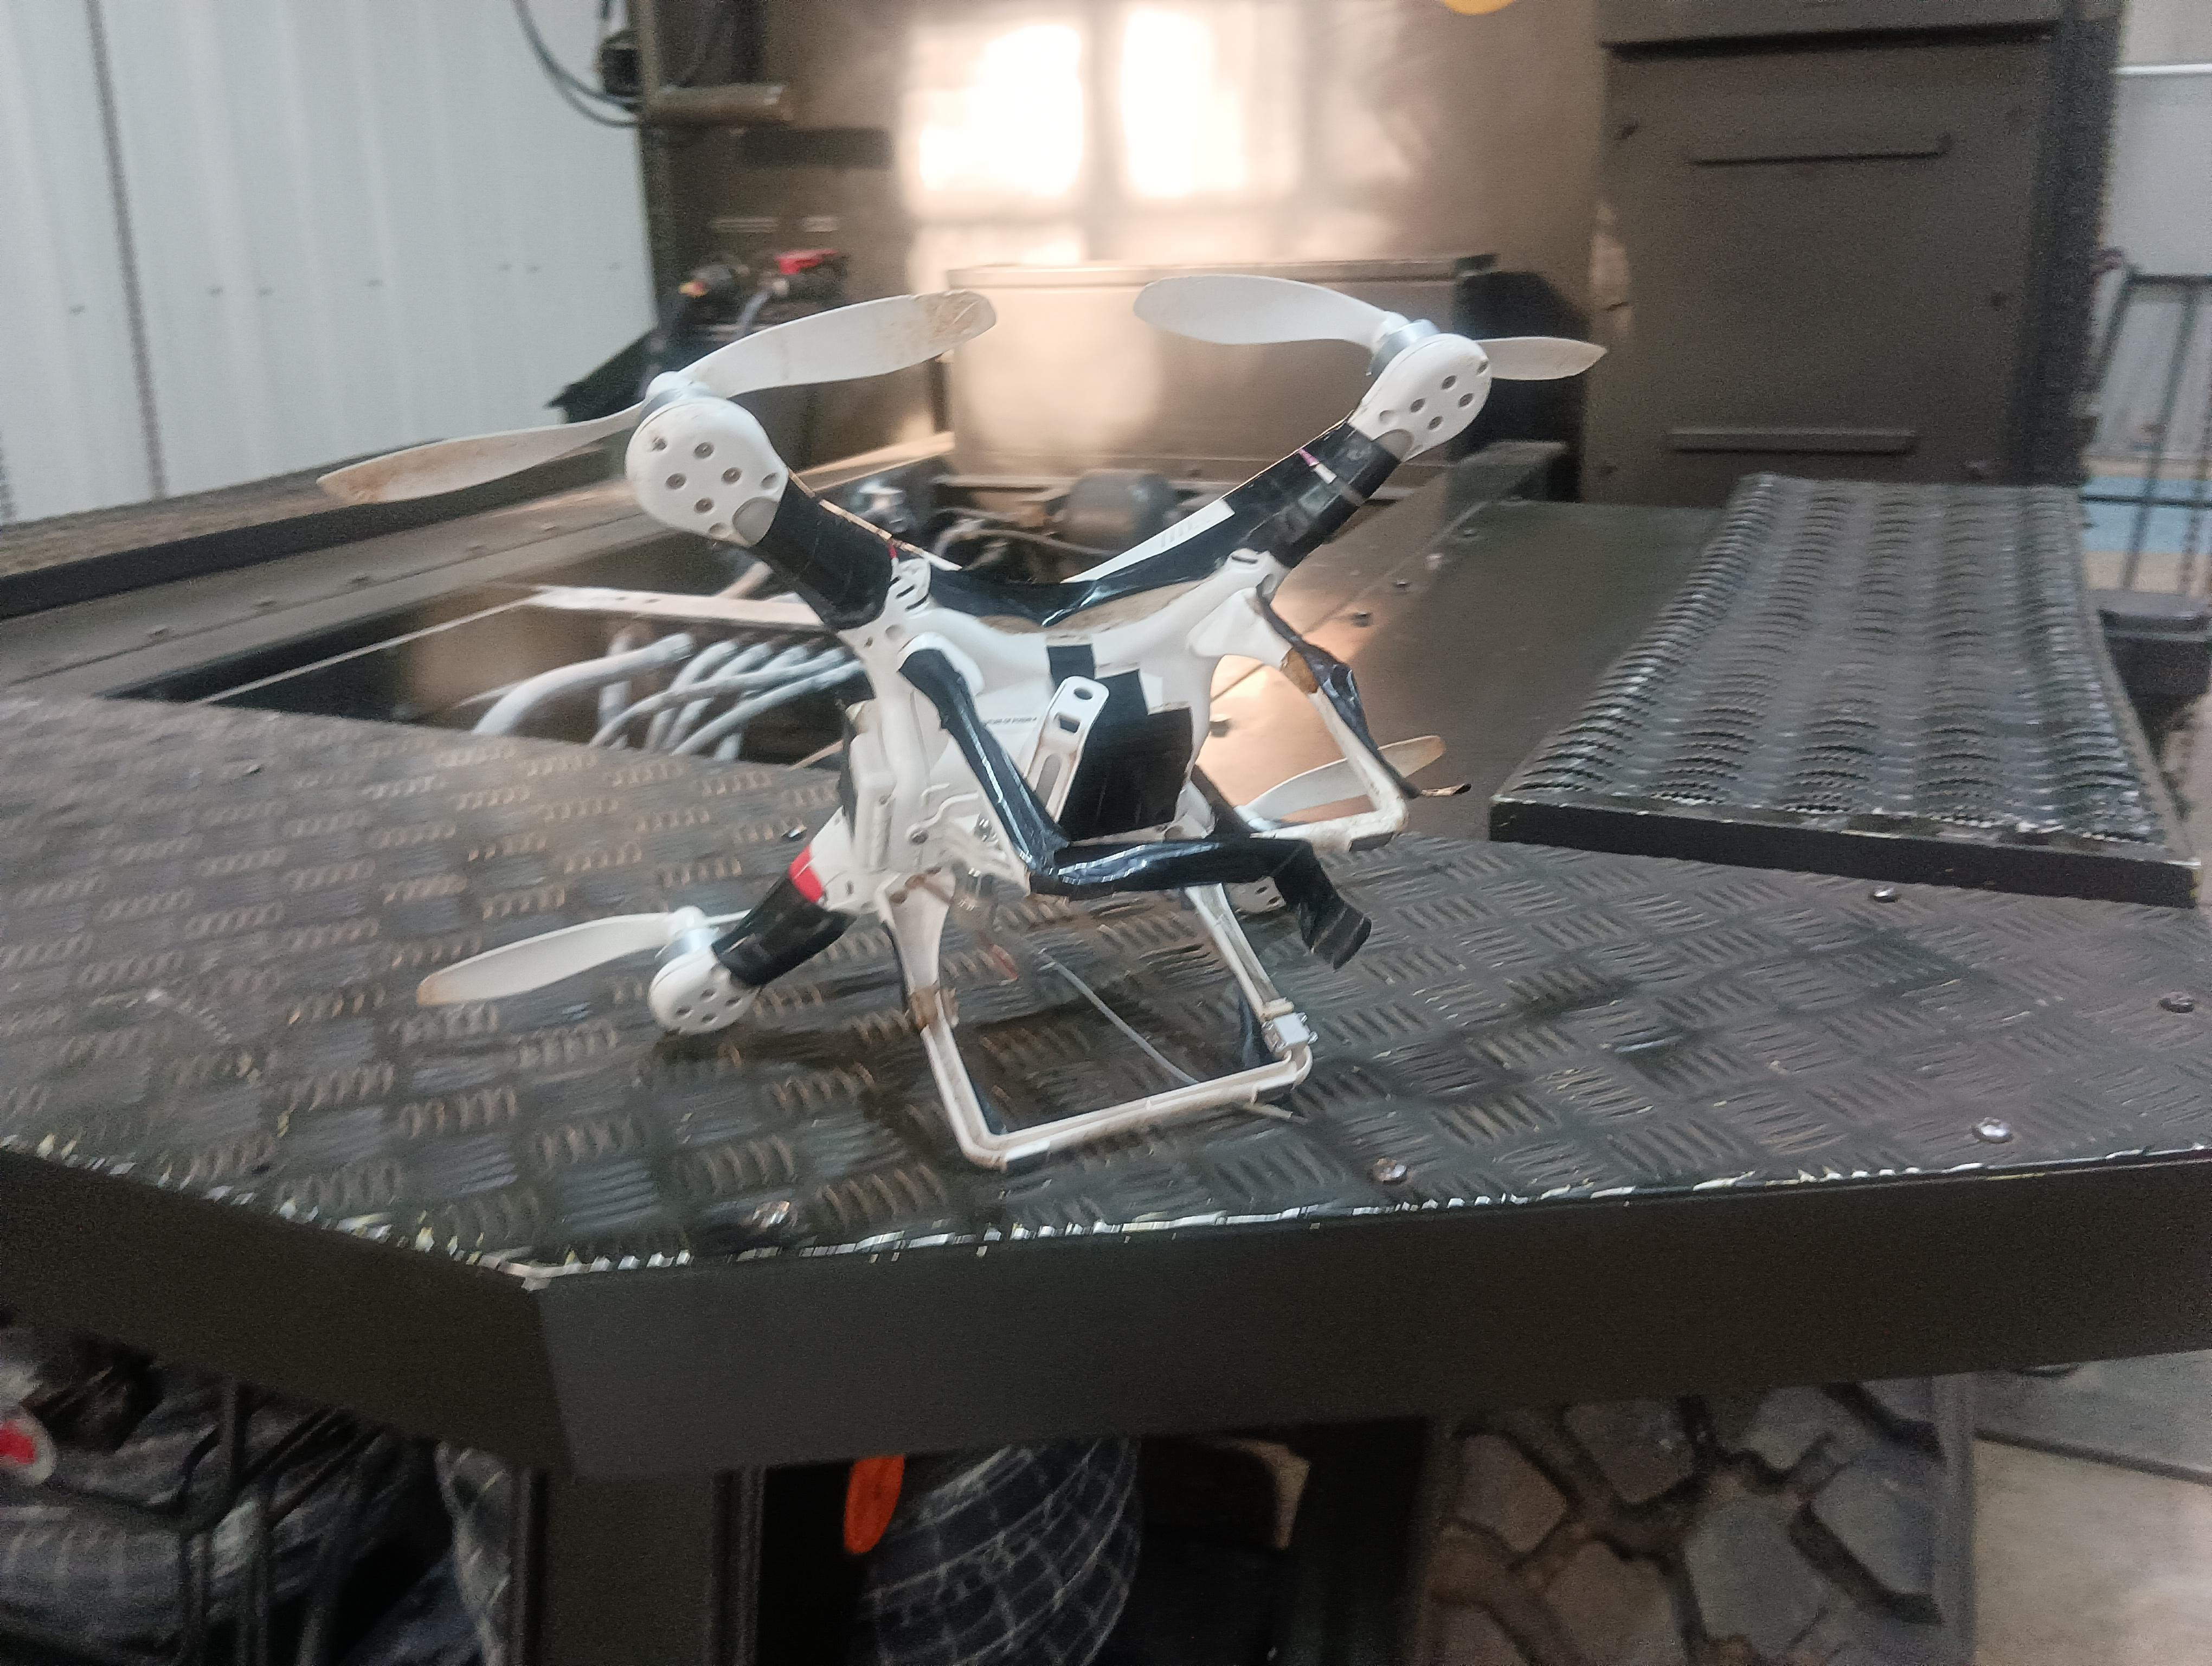drone: (386, 256, 1638, 1194)
